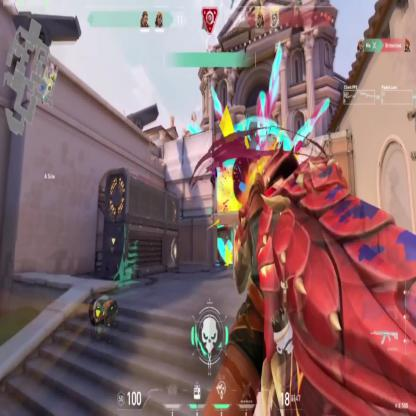enemy: (209, 158, 217, 190)
enemy_head: (210, 157, 215, 167)
